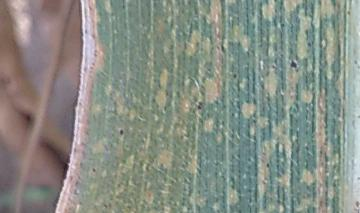tarspot: (288, 59, 300, 71), (195, 100, 204, 111), (220, 45, 227, 54), (118, 129, 126, 136), (91, 167, 98, 175), (232, 72, 238, 80), (265, 161, 271, 169), (306, 40, 312, 48)
